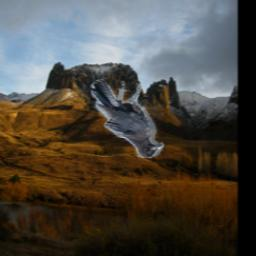Crow: (91, 80, 164, 159)
